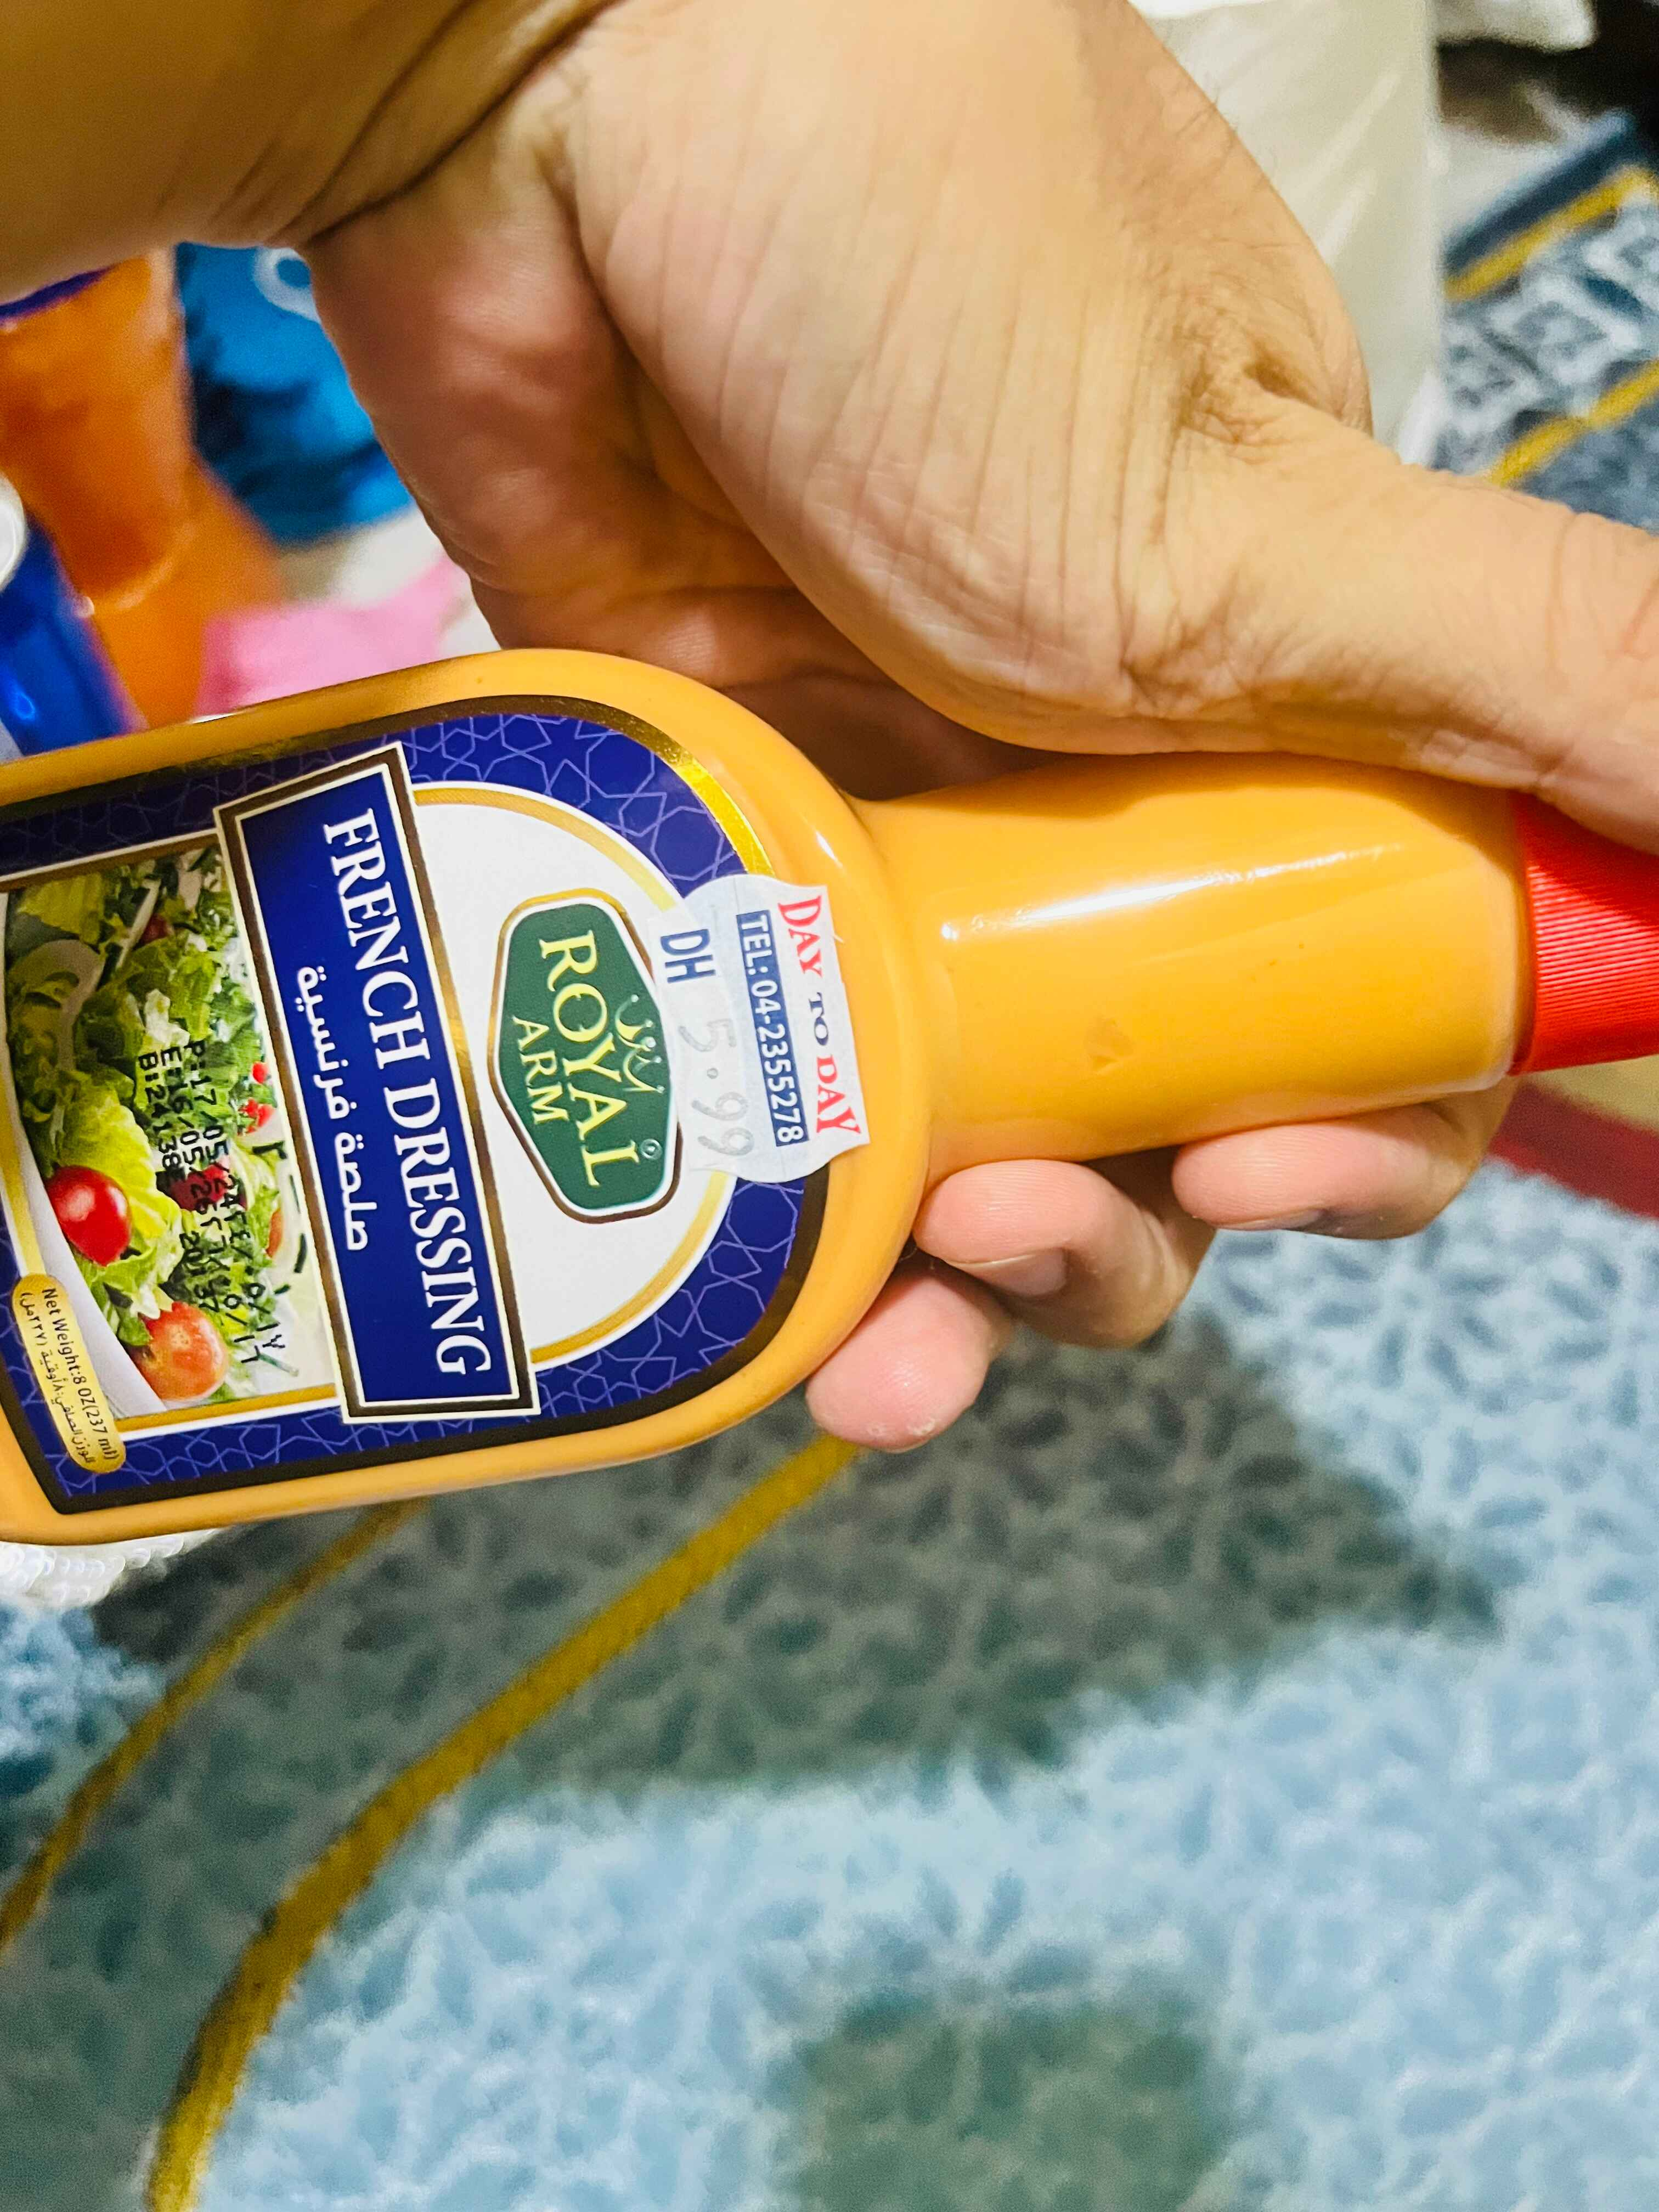PriceTagSmall: (647, 866, 875, 1188)
